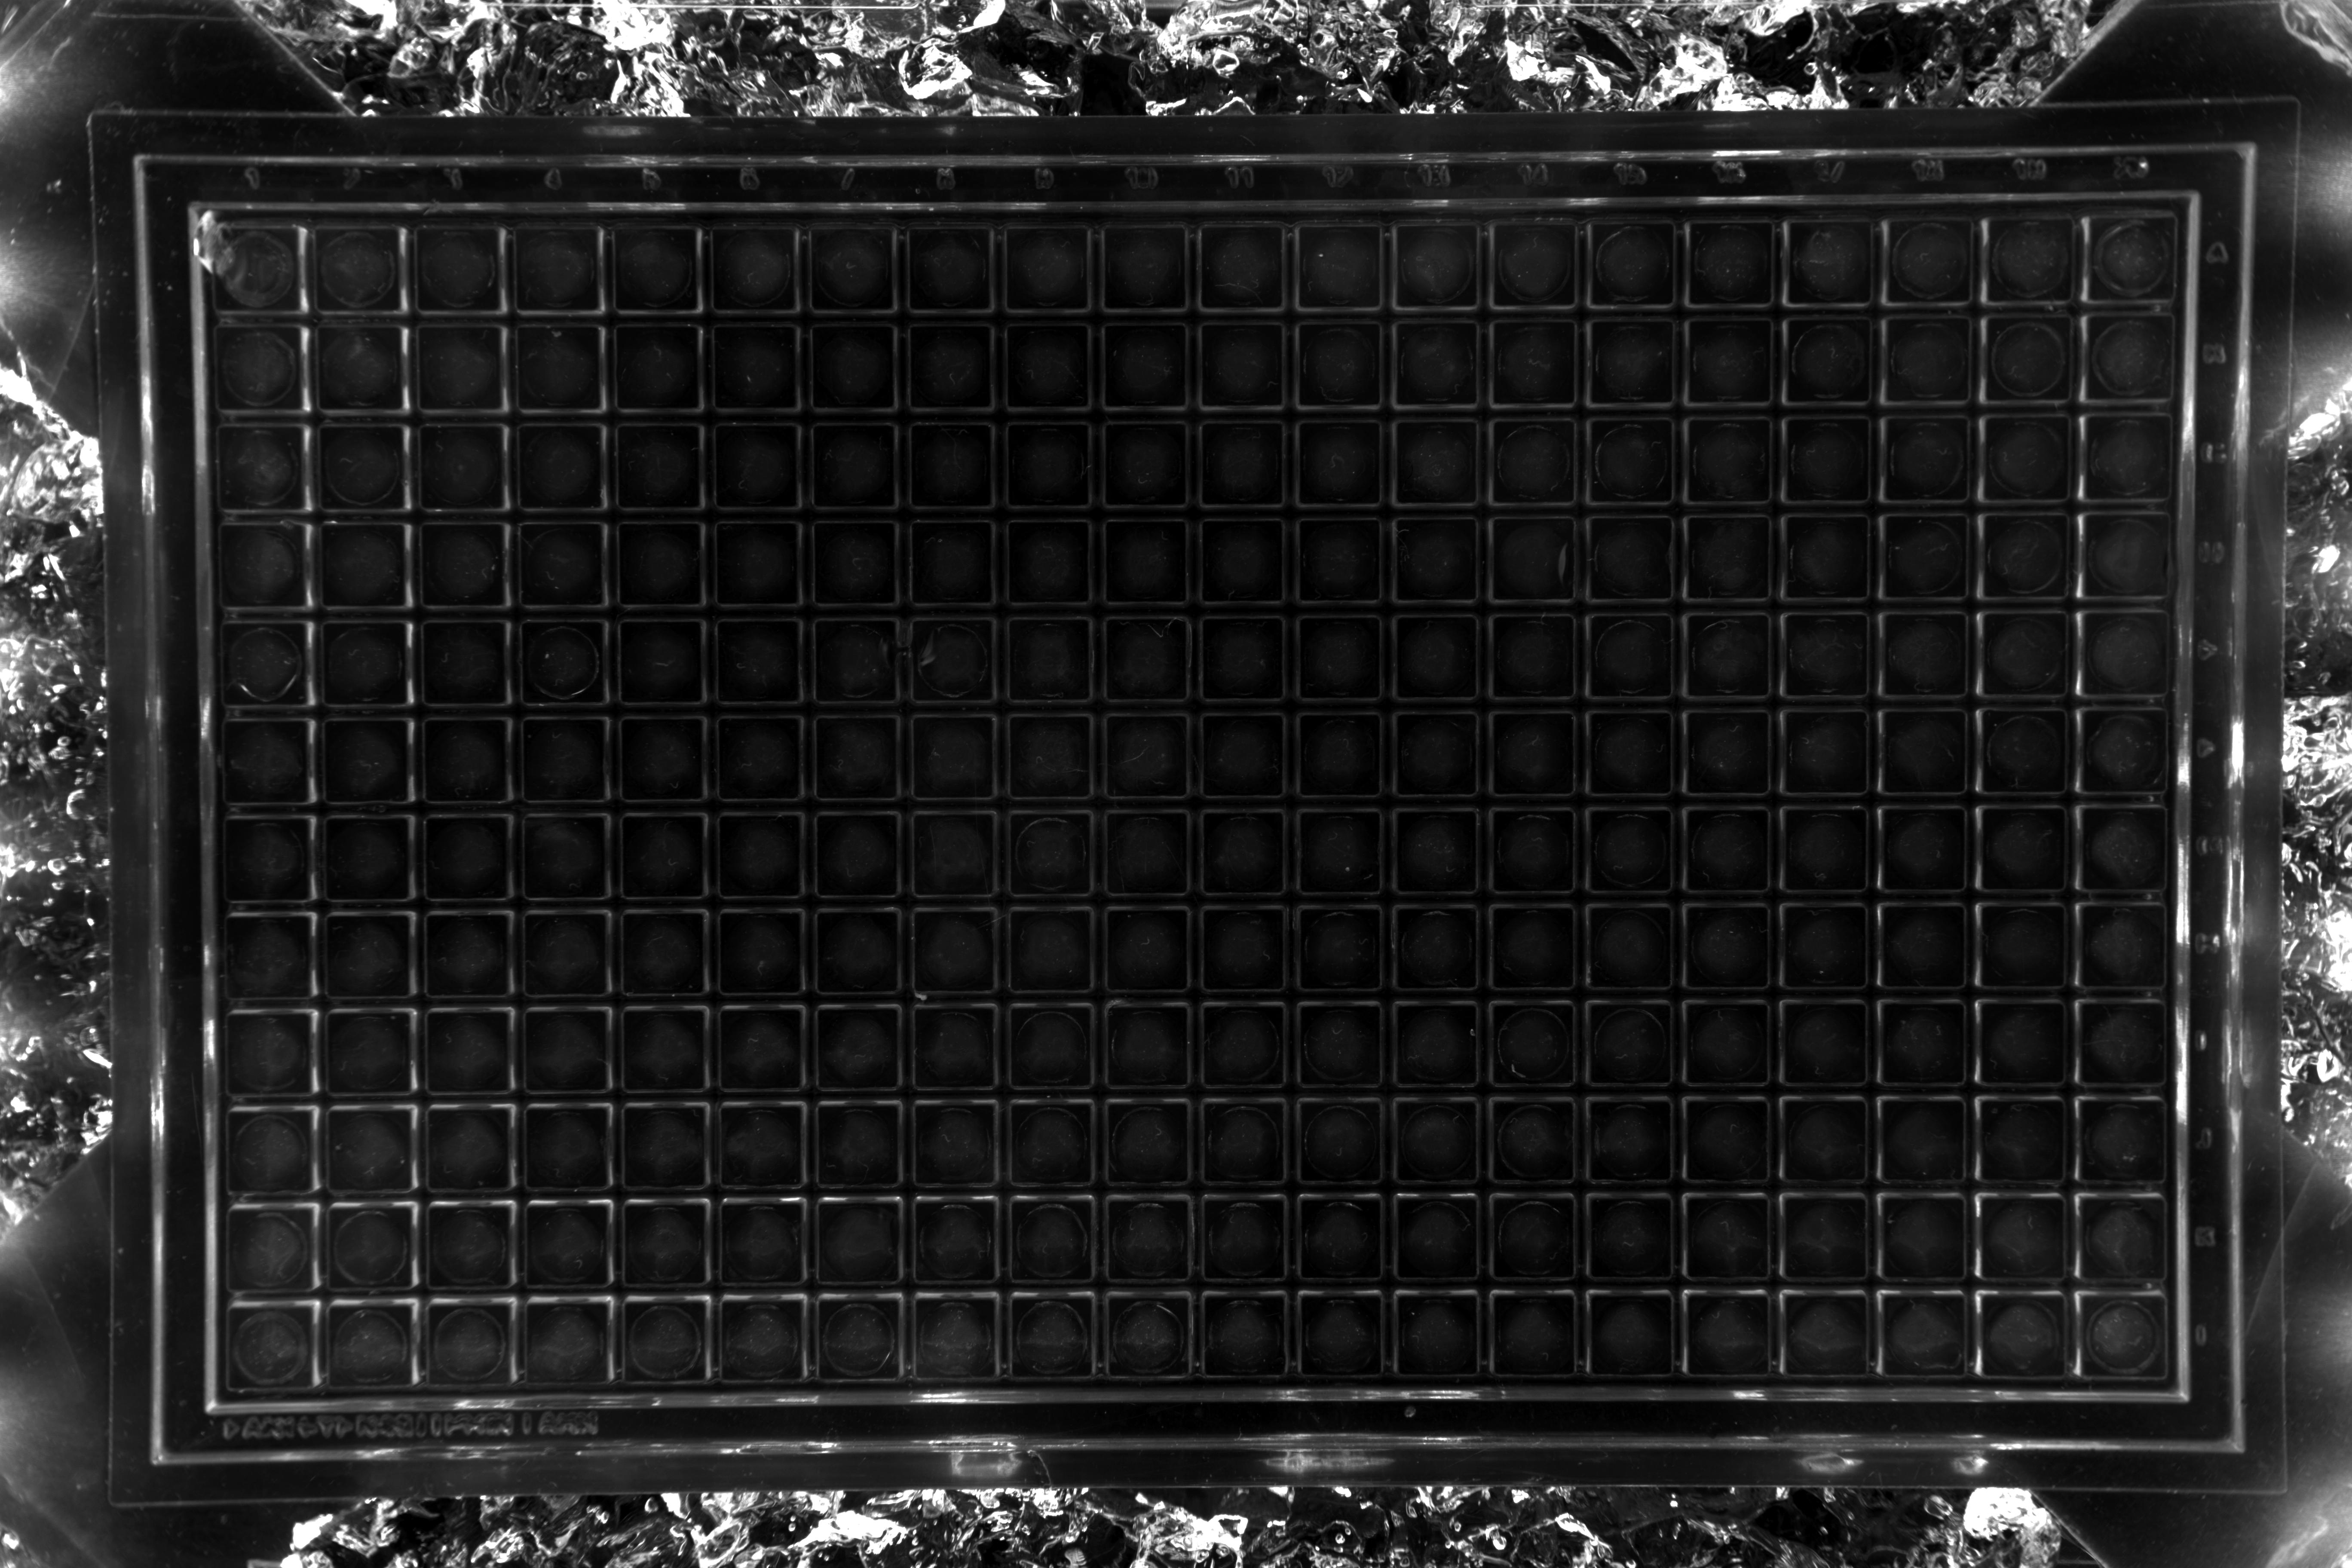WM_well: (1272, 1209, 1360, 1298), (303, 926, 390, 1013), (588, 240, 675, 327), (595, 730, 682, 817), (595, 924, 682, 1011), (789, 728, 877, 815), (884, 436, 971, 523), (885, 534, 973, 621), (887, 1018, 975, 1106), (1272, 822, 1360, 910), (1274, 140, 1361, 227), (1368, 1113, 1456, 1200), (1368, 1017, 1456, 1104), (1466, 920, 1554, 1008), (1470, 138, 1557, 226), (1561, 1211, 1648, 1298), (1563, 1017, 1650, 1104), (1563, 920, 1650, 1008), (1661, 1017, 1748, 1104), (1662, 628, 1750, 716), (1862, 528, 1949, 616), (2060, 525, 2147, 612)
